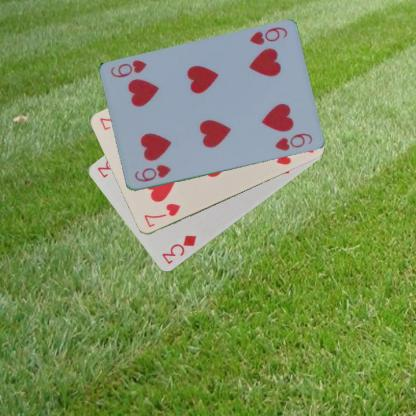3d: (159, 232, 197, 266)
6h: (247, 25, 288, 47), (132, 162, 172, 184)
7h: (141, 201, 181, 230)
